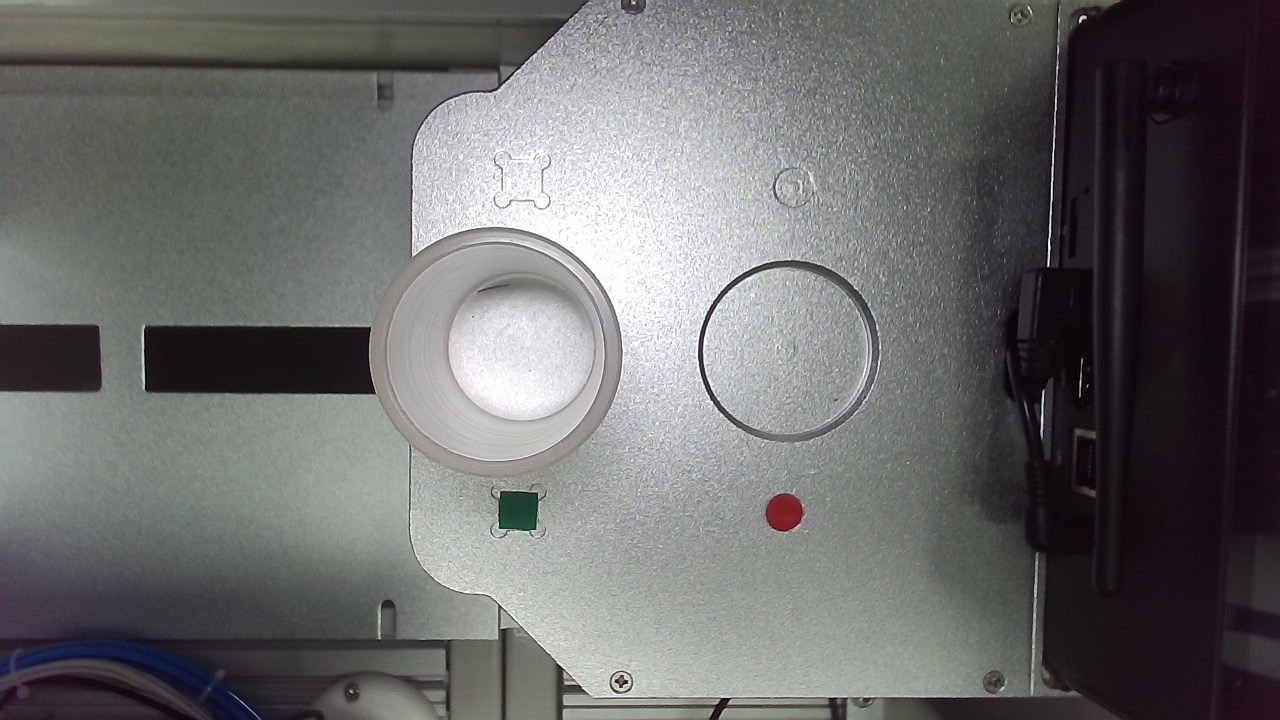XLabel: (645, 297, 679, 330)
YLabel: (426, 290, 461, 325)
none: (358, 360, 521, 523)
transparenexcept: (580, 356, 796, 573)
